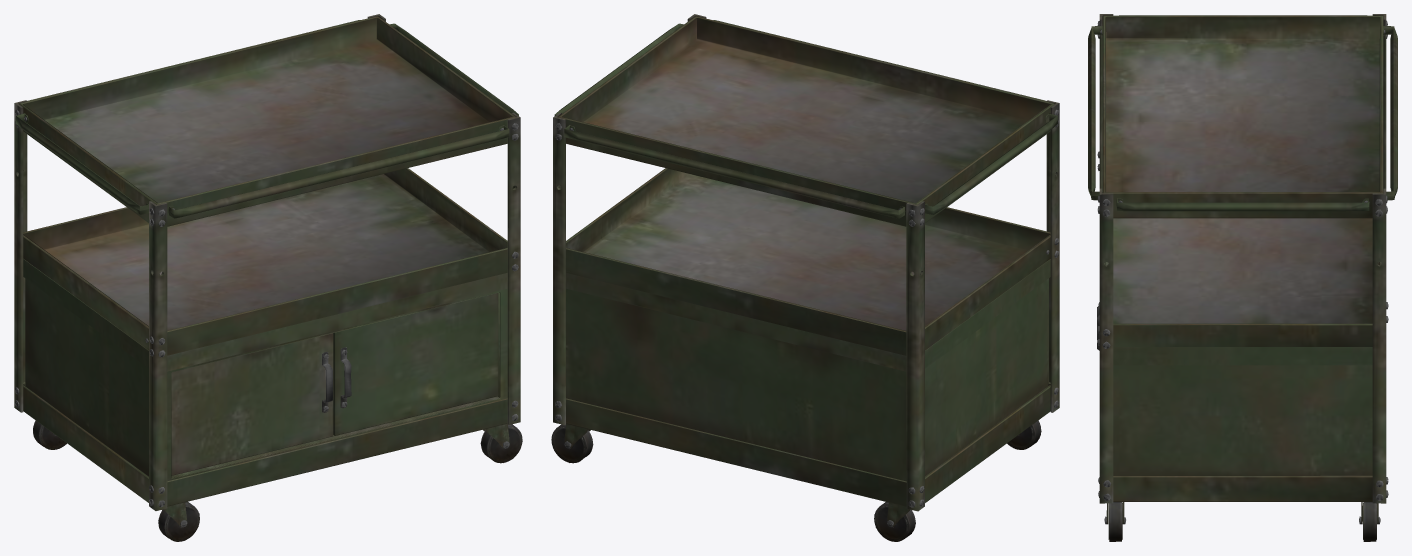
File: industrial_storage_cart.glb
3 views of the same model, side by side, from view 1: azimuth 30°, elevation 25°; view 2: azimuth 150°, elevation 25°; view 3: azimuth 270°, elevation 25° (orthographic).
Parts seen in each view (by area): view 1: industrial_storage_cart; view 2: industrial_storage_cart; view 3: industrial_storage_cart.
Boxes of the visible parts, x1=… form: industrial_storage_cart: x1=14, y1=14, x2=522, y2=541; industrial_storage_cart: x1=551, y1=14, x2=1059, y2=541; industrial_storage_cart: x1=1088, y1=14, x2=1397, y2=541.
Bounding box in the file's own units: 1.6 × 1.38 × 1.1.
1 material, 1 textured.
